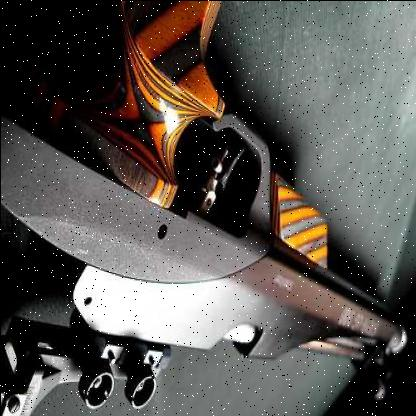rifle: (1, 1, 410, 405)
